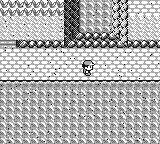captura: (1, 0, 64, 16)
main: (82, 61, 95, 75)
no-caminable: (1, 81, 159, 143), (64, 1, 128, 47)
salto: (19, 40, 63, 47), (128, 40, 159, 47)
